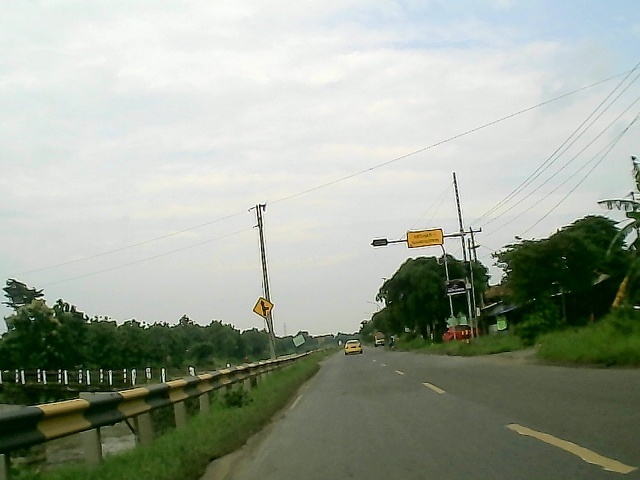Simpang kanan dengan prioritas: (251, 294, 276, 319)
